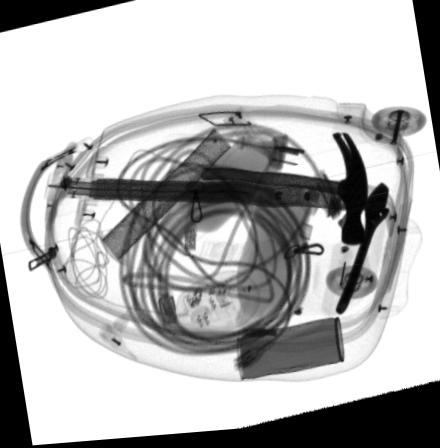Hammer: (198, 135, 368, 250)
Wrench: (334, 187, 392, 323)
